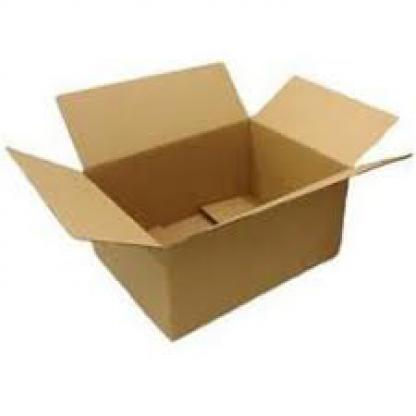box: (4, 61, 413, 337)
